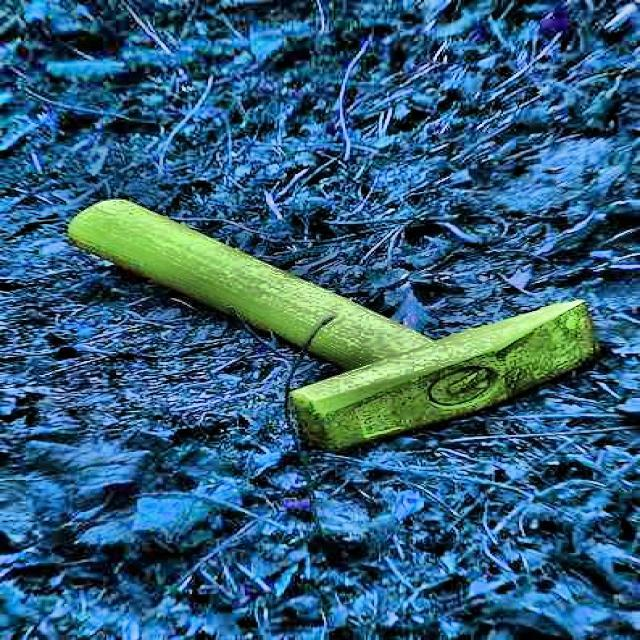hammer: (65, 191, 599, 450)
